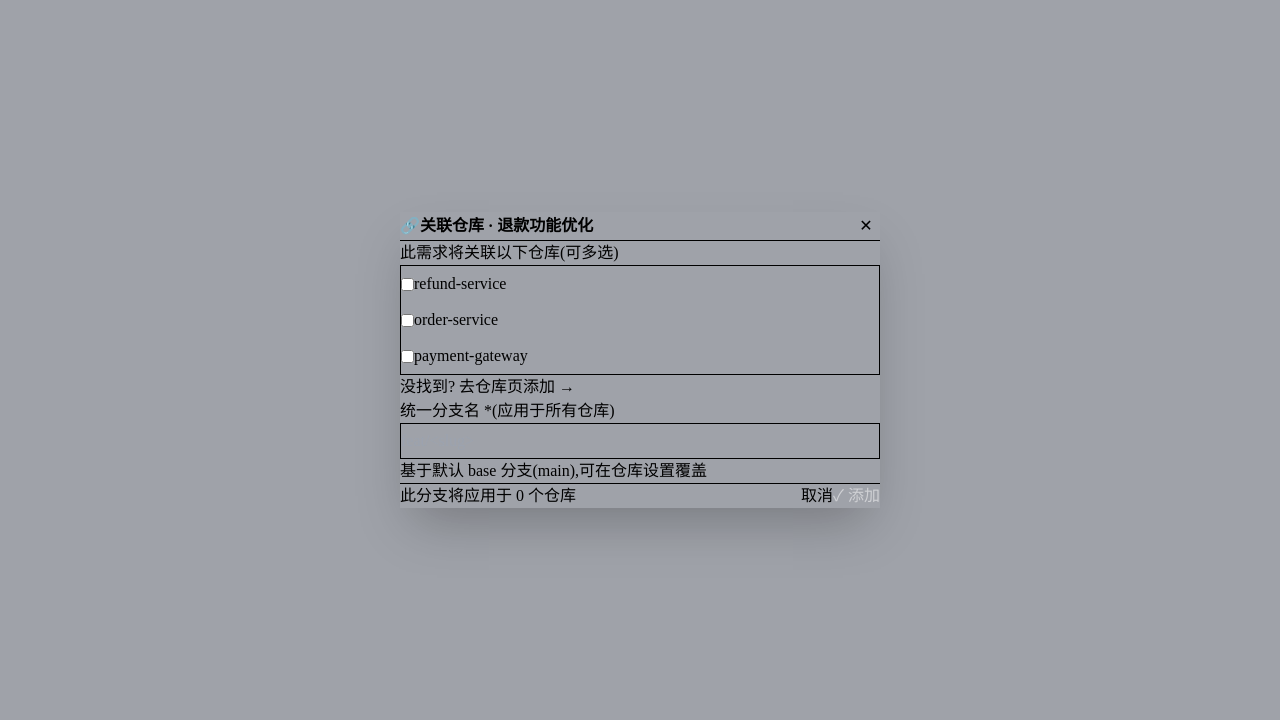
Test: AttachReposDialog · 校验 + 提交 › first 模式:footer 左侧展示 "此分支将应用于 N 个仓库"
The width and height of the screenshot is (1280, 720).
Click the label with test id "attach-repos-dialog-repo-option" showing "refund-service" at (454, 284), box [401, 275, 506, 292]
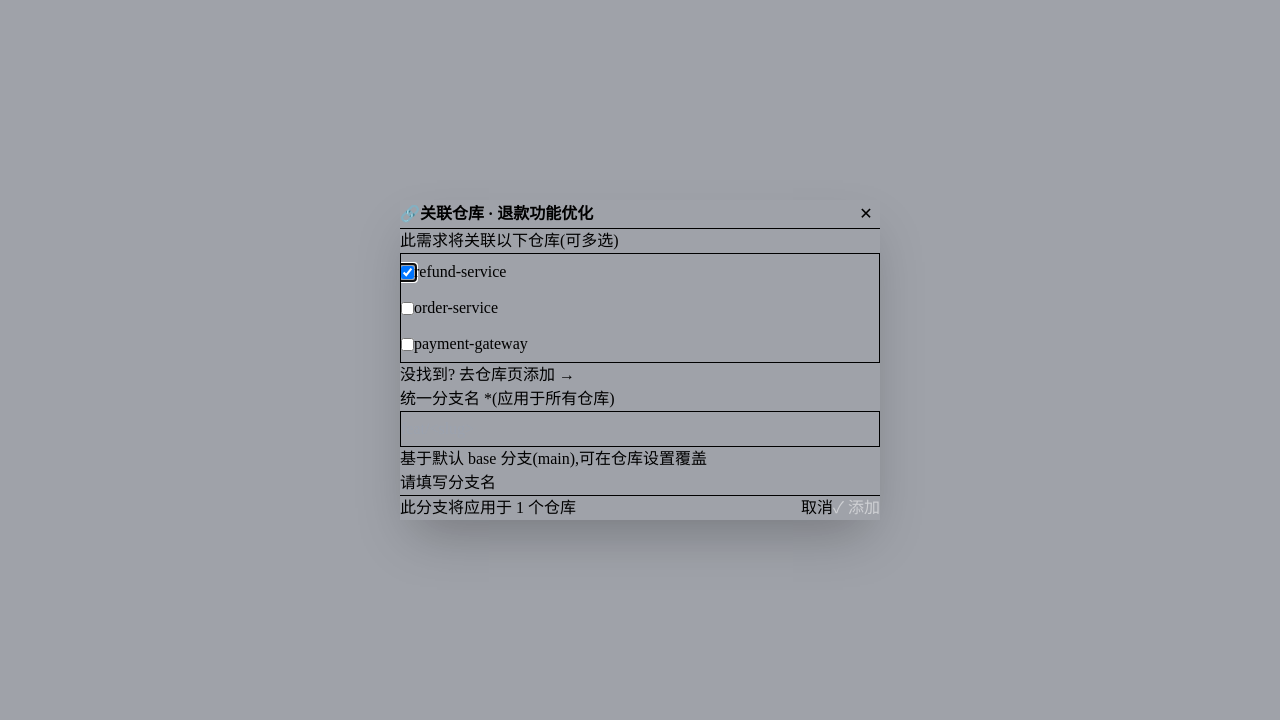
Click the label with test id "attach-repos-dialog-repo-option" showing "order-service" at (450, 308), box [401, 299, 498, 316]
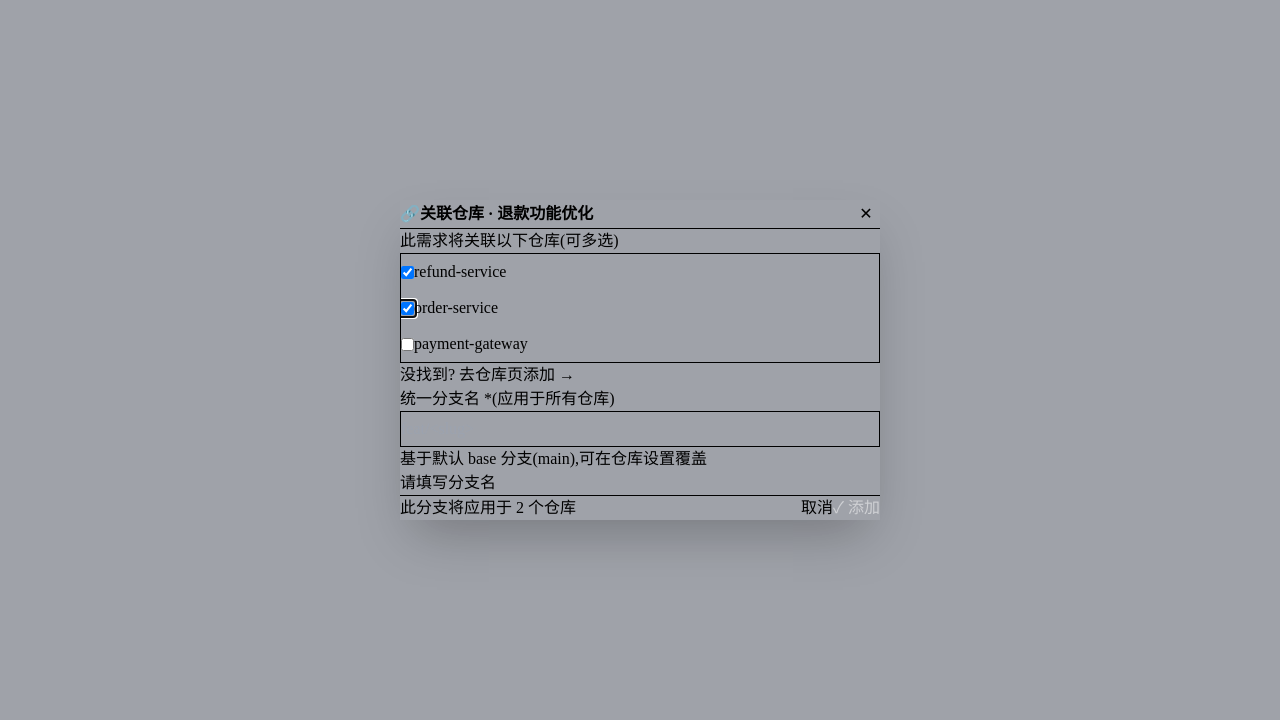
Now the text with test id "attach-repos-dialog-footer-left" reads "此分支将应用于 2 个仓库", box [400, 499, 576, 516]
